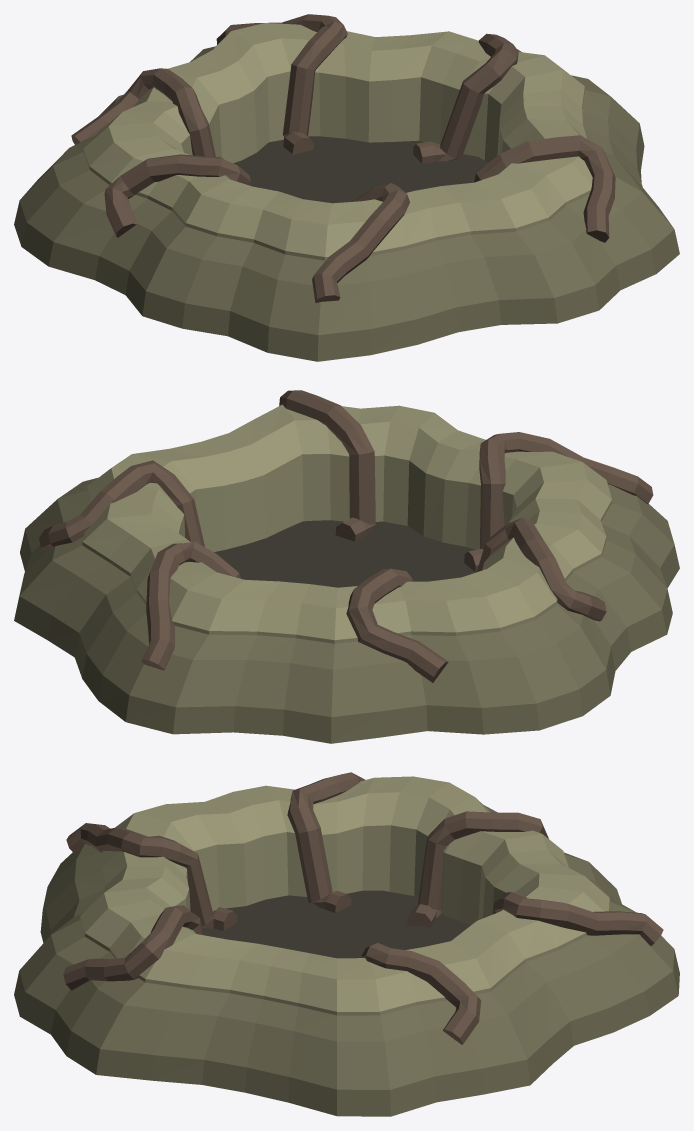
The model's file is vge_wormspitter_base.obj.
3 views of the same model, one above another, from view 1: azimuth 30°, elevation 25°; view 2: azimuth 150°, elevation 25°; view 3: azimuth 270°, elevation 25° (orthographic). The views are drawn at different scales.
Parts seen in each view (by area): view 1: vge_wormspitter_base_0, vge_wormspitter_base_1, vge_wormspitter_base_2, vge_wormspitter_base_8, vge_wormspitter_base_4, vge_wormspitter_base_3, vge_wormspitter_base_6, vge_wormspitter_base_7, vge_wormspitter_base_5; view 2: vge_wormspitter_base_0, vge_wormspitter_base_1, vge_wormspitter_base_2, vge_wormspitter_base_7, vge_wormspitter_base_8, vge_wormspitter_base_3, vge_wormspitter_base_5, vge_wormspitter_base_4, vge_wormspitter_base_6; view 3: vge_wormspitter_base_0, vge_wormspitter_base_1, vge_wormspitter_base_2, vge_wormspitter_base_7, vge_wormspitter_base_6, vge_wormspitter_base_5, vge_wormspitter_base_4, vge_wormspitter_base_8, vge_wormspitter_base_3.
Part boxes in pixels (<box>): vge_wormspitter_base_0: <box>14,46,679,361</box>; vge_wormspitter_base_1: <box>83,23,592,260</box>; vge_wormspitter_base_2: <box>233,136,488,203</box>; vge_wormspitter_base_8: <box>474,135,615,242</box>; vge_wormspitter_base_4: <box>216,14,347,154</box>; vge_wormspitter_base_3: <box>413,33,521,163</box>; vge_wormspitter_base_6: <box>104,154,251,237</box>; vge_wormspitter_base_7: <box>312,183,409,302</box>; vge_wormspitter_base_5: <box>71,68,215,156</box>; vge_wormspitter_base_0: <box>14,478,679,743</box>; vge_wormspitter_base_1: <box>82,404,611,643</box>; vge_wormspitter_base_2: <box>214,520,475,587</box>; vge_wormspitter_base_7: <box>464,432,653,572</box>; vge_wormspitter_base_8: <box>279,390,375,541</box>; vge_wormspitter_base_3: <box>39,460,204,550</box>; vge_wormspitter_base_5: <box>346,568,448,682</box>; vge_wormspitter_base_4: <box>141,541,240,670</box>; vge_wormspitter_base_6: <box>477,517,606,621</box>; vge_wormspitter_base_0: <box>14,805,679,1116</box>; vge_wormspitter_base_1: <box>80,776,609,1015</box>; vge_wormspitter_base_2: <box>202,890,470,958</box>; vge_wormspitter_base_7: <box>66,823,237,931</box>; vge_wormspitter_base_6: <box>287,772,365,912</box>; vge_wormspitter_base_5: <box>407,811,548,927</box>; vge_wormspitter_base_4: <box>492,892,663,945</box>; vge_wormspitter_base_8: <box>63,905,203,990</box>; vge_wormspitter_base_3: <box>361,943,481,1044</box>.
Size of the model in its own units: 2.54 by 0.475 by 2.54.
